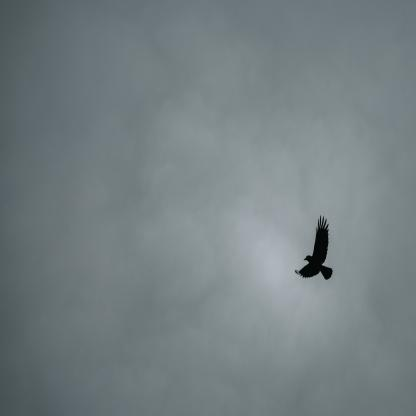bird: (295, 216, 333, 280)
